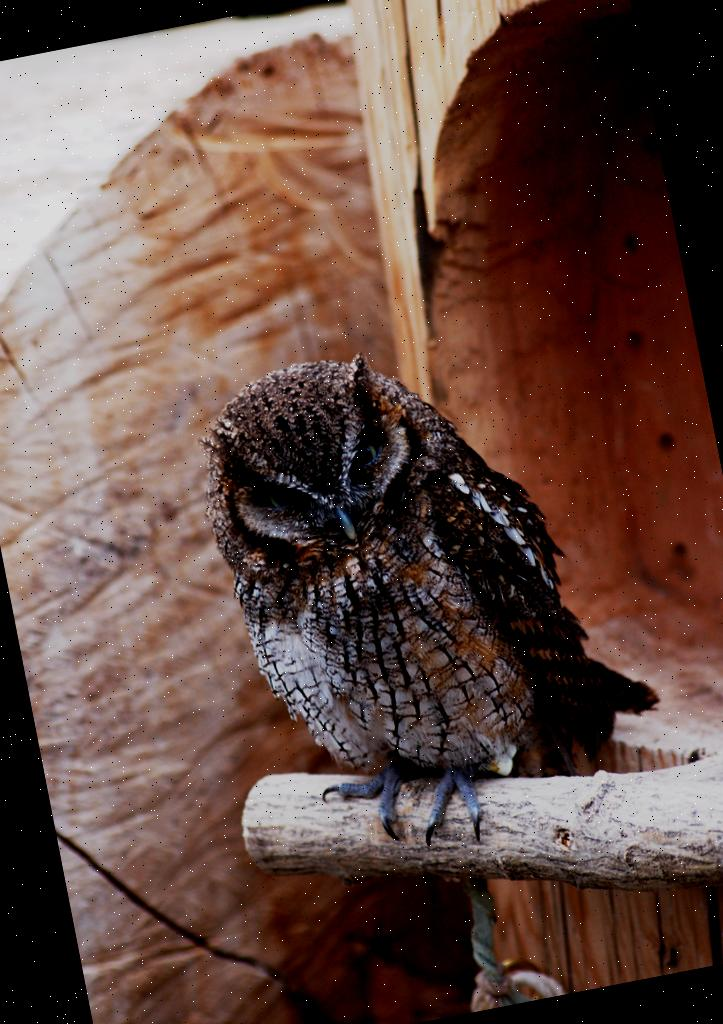Owl: (181, 304, 684, 884)
